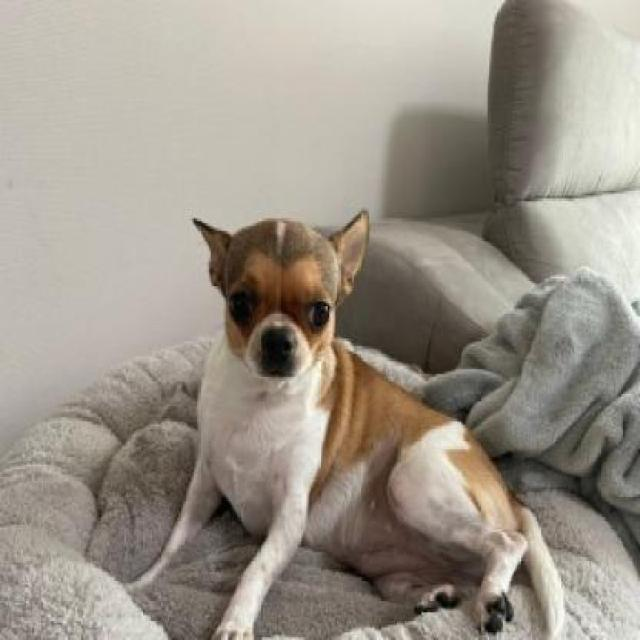Dog: (120, 210, 574, 638)
